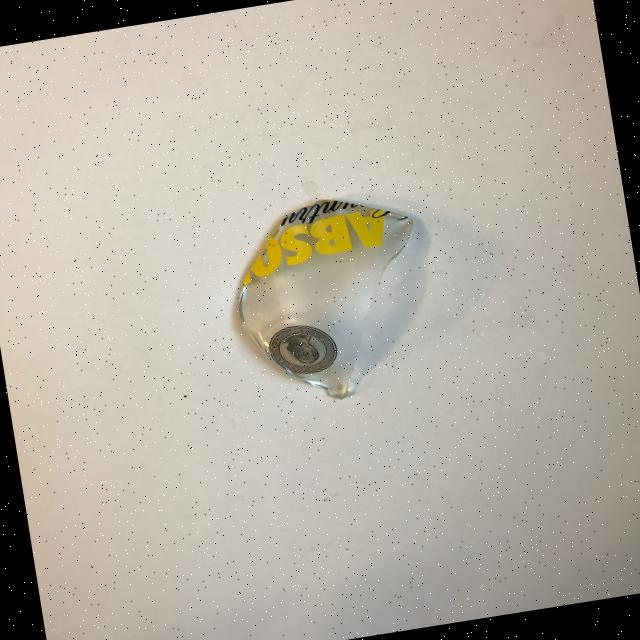glass: (222, 185, 440, 414)
